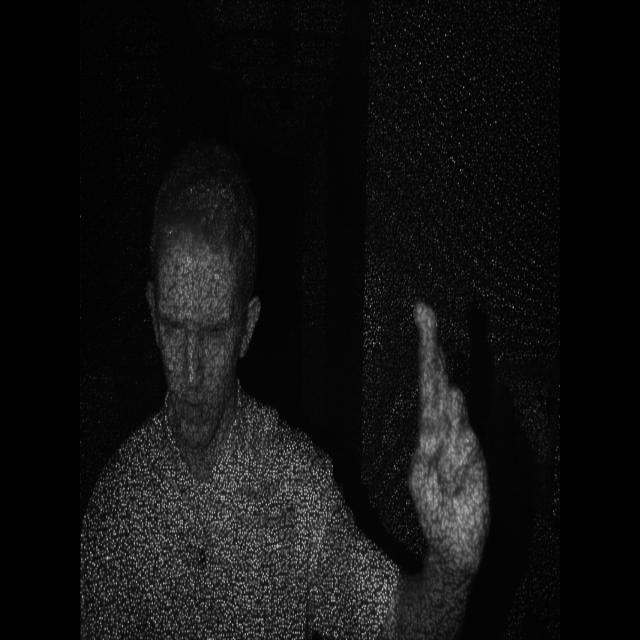R: (389, 284, 502, 546)
